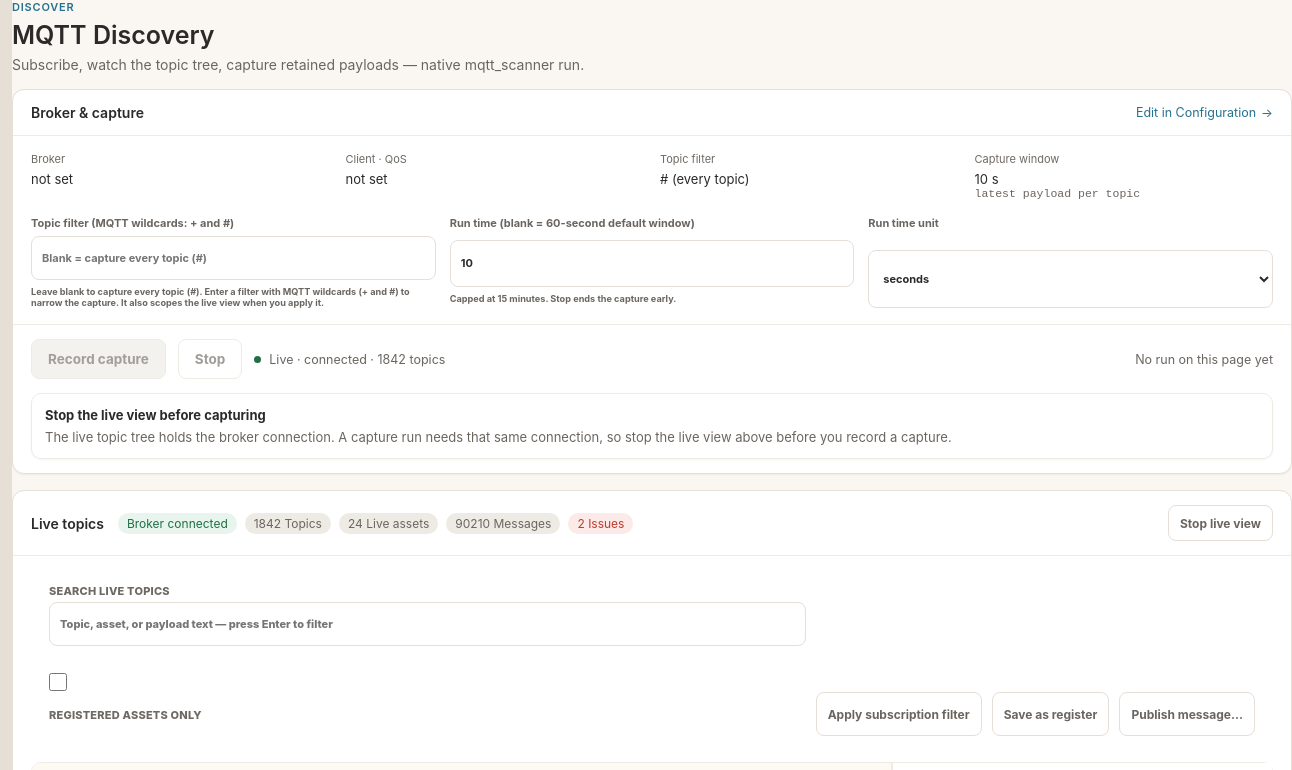
Scenario: MqttScannerPage › saves the live session as a register and reports what was accepted
The width and height of the screenshot is (1292, 770).
Click the button "Save as register" at (1051, 714), box [992,692,1109,736]
(page scrolled)
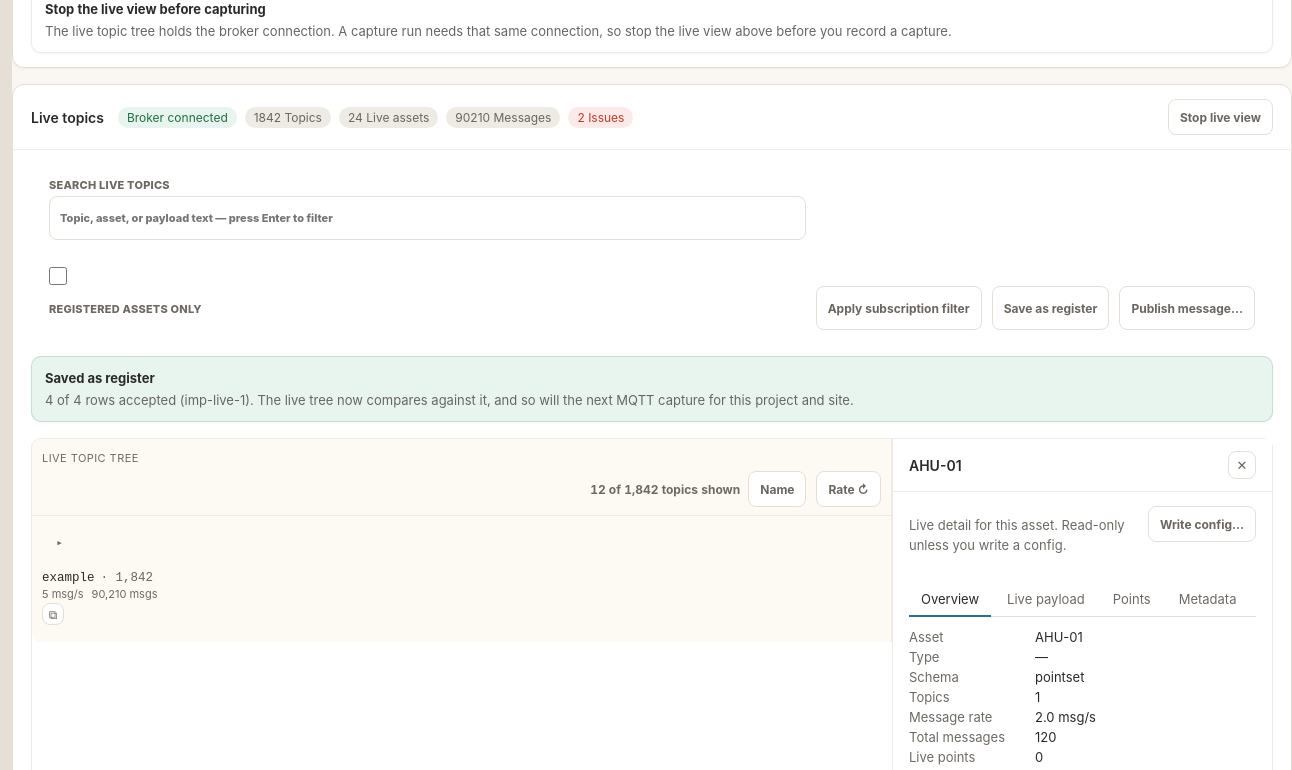
Check: the text "4 of 4 rows accepted (imp-live-1)" is shown, box [45,392,854,408]
Check: the text "The live tree now compares against it, and so will the next MQTT capture" is shown, box [257,392,854,408]
